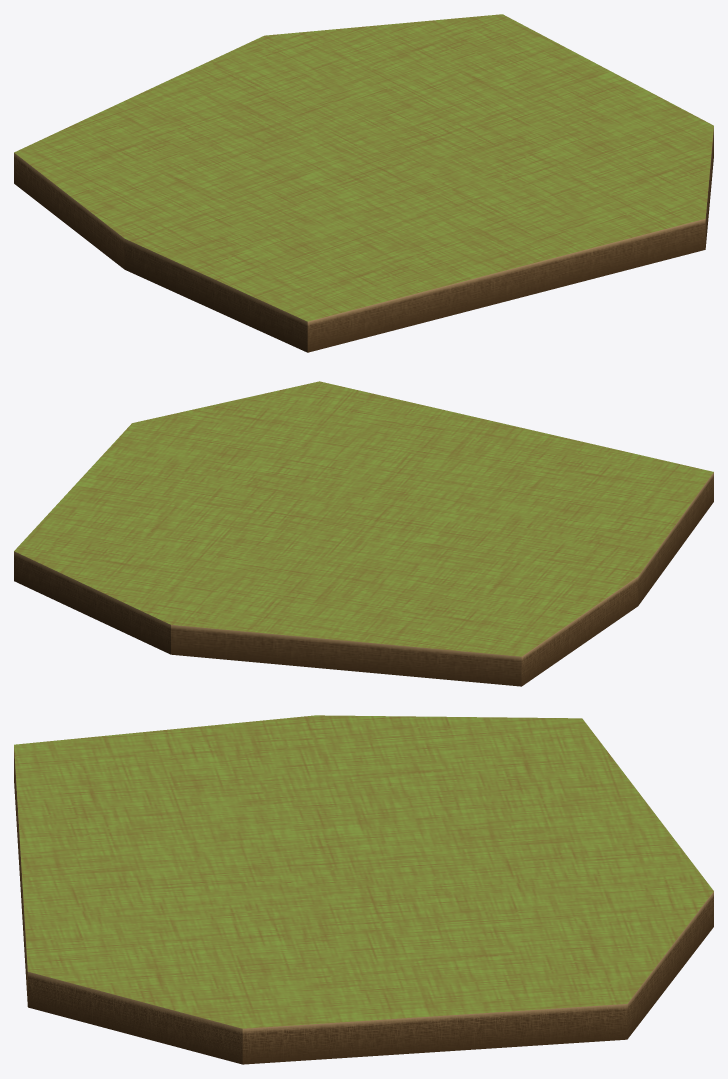
The model's file is Terrain03_E.FBX.
The picture shows the model from 3 angles, top to bottom: view 1: azimuth 30°, elevation 25°; view 2: azimuth 150°, elevation 25°; view 3: azimuth 270°, elevation 25°; orthographic projection. The views are drawn at different scales.
Visible parts, largest first — view 1: Terrain03_E; view 2: Terrain03_E; view 3: Terrain03_E.
Part boxes in pixels (<box>): Terrain03_E: <box>14,14,713,352</box>; Terrain03_E: <box>14,381,713,686</box>; Terrain03_E: <box>14,715,713,1064</box>.
Bounding box in the file's own units: 945 × 50.36 × 892.
1 material, 1 textured.
